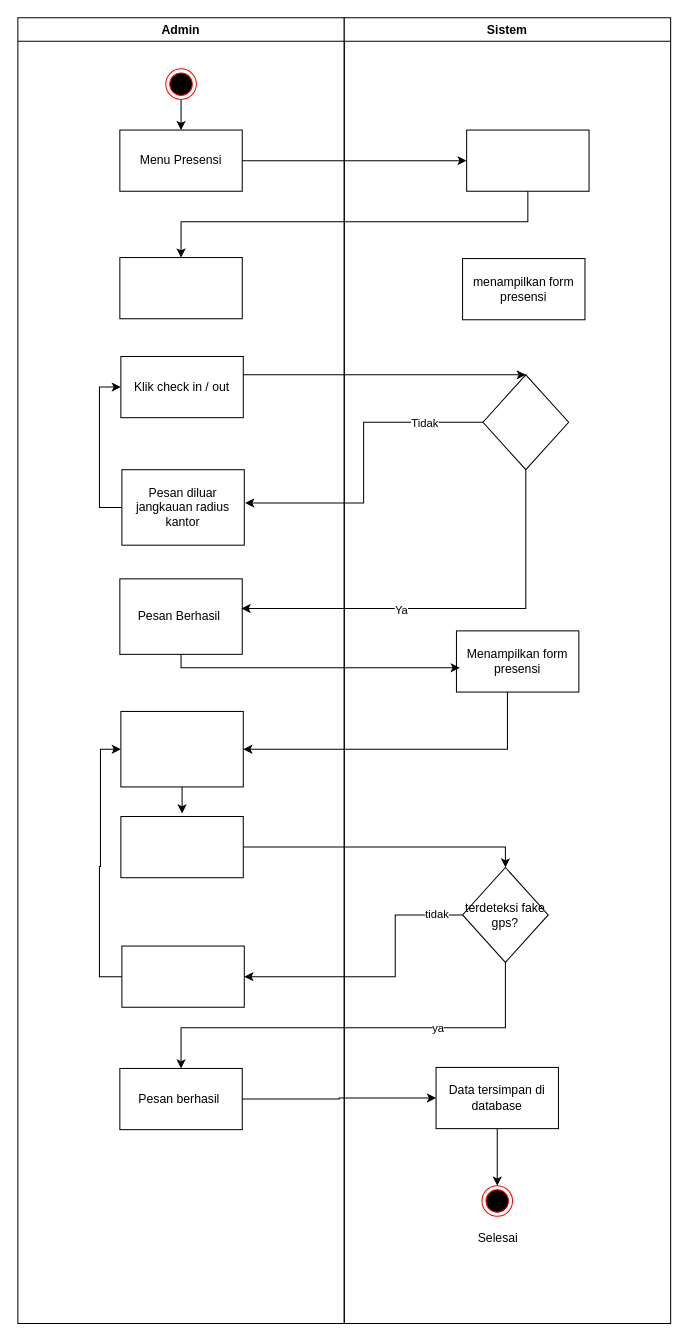
This 689x1341 diagram has some shape labels left out. Here are the shapes that lost their labels. From the top down, the centre of each, then its label:
the point at 527,160: Menampilkan maps lokasi kantor & user
the point at 180,288: Pilih Klik Shift
the point at 525,422: Berada Dalam Radius?
the point at 181,748: Melakukan presensi dengan foto
the point at 181,846: Klik Presensi
the point at 182,976: Pesan Terdeteksi fake gps
